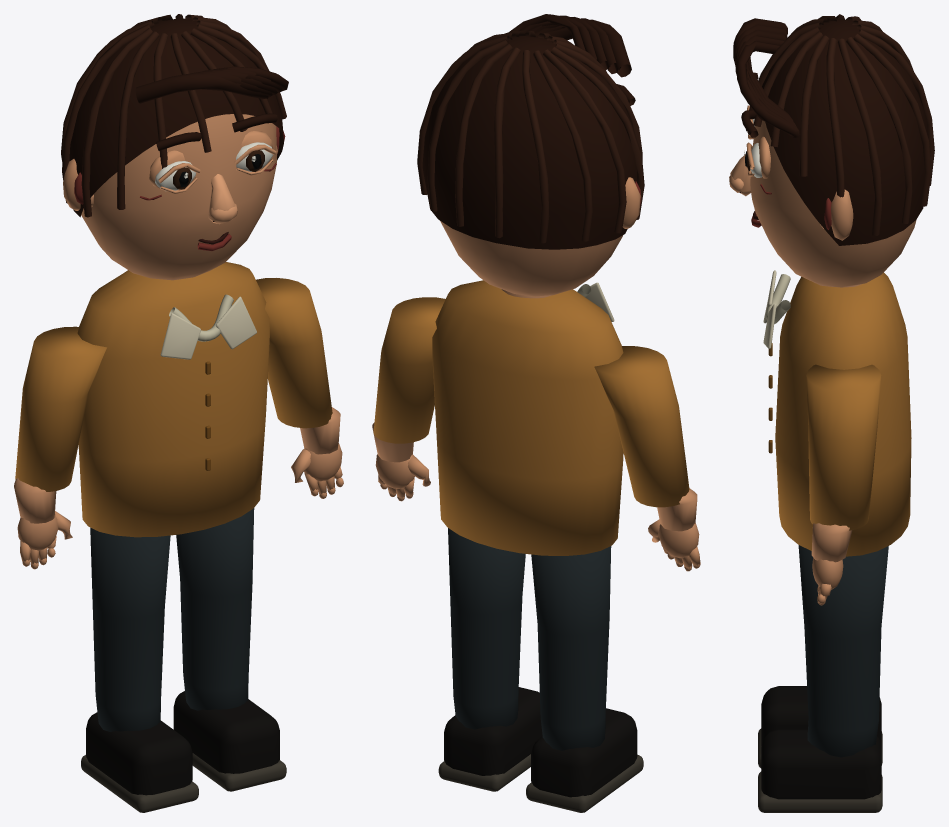
Rendered from patient-39.glb.
3 views of the same model, side by side, from view 1: azimuth 30°, elevation 25°; view 2: azimuth 150°, elevation 25°; view 3: azimuth 270°, elevation 25° (orthographic).
Visible parts, largest first — view 1: Head, Body, LegL, LegR, ArmL, ArmR; view 2: Head, Body, LegL, LegR, ArmL, ArmR; view 3: Head, Body, LegR, ArmR, LegL.
Boxes of the visible parts, box(x1,y1,x2,y2) form: Head: box(61, 14, 288, 280); Body: box(77, 262, 269, 537); LegL: box(81, 527, 198, 812); LegR: box(173, 508, 286, 791); ArmL: box(14, 326, 106, 569); ArmR: box(256, 278, 343, 498); Head: box(417, 14, 644, 298); Body: box(432, 280, 623, 555); LegL: box(526, 546, 643, 812); LegR: box(438, 528, 542, 791); ArmL: box(594, 346, 700, 571); ArmR: box(372, 297, 445, 501); Head: box(729, 14, 934, 287); Body: box(763, 270, 911, 556); LegR: box(758, 545, 888, 812); ArmR: box(806, 364, 881, 605); LegL: box(758, 686, 882, 768).
Size of the model in its own units: 0.657 by 1.45 by 0.3604.
